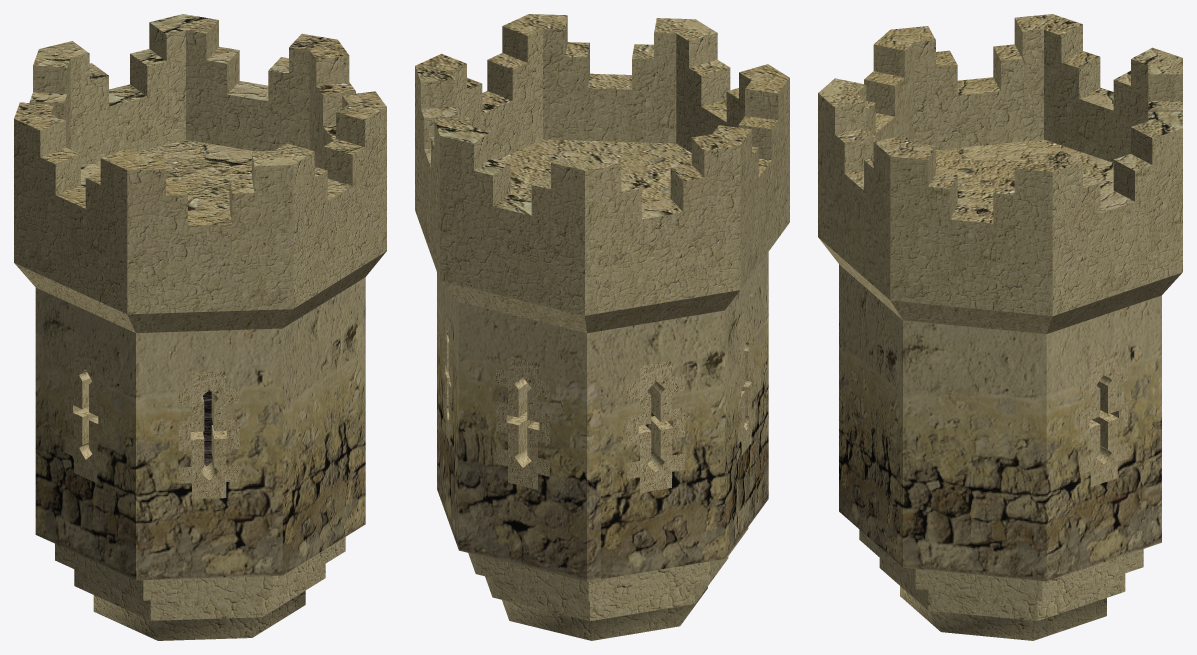
Rendered from Column.fbx.
3 renders of one model, left to right at view 1: azimuth 30°, elevation 25°; view 2: azimuth 150°, elevation 25°; view 3: azimuth 270°, elevation 25°, orthographic.
Parts seen in each view (by area): view 1: Column; view 2: Column; view 3: Column.
Part boxes in pixels (bbox=[...]): Column: bbox=[14, 14, 386, 640]; Column: bbox=[415, 14, 789, 640]; Column: bbox=[818, 14, 1182, 640].
Size of the model in its own units: 2323 by 3447 by 2265.
